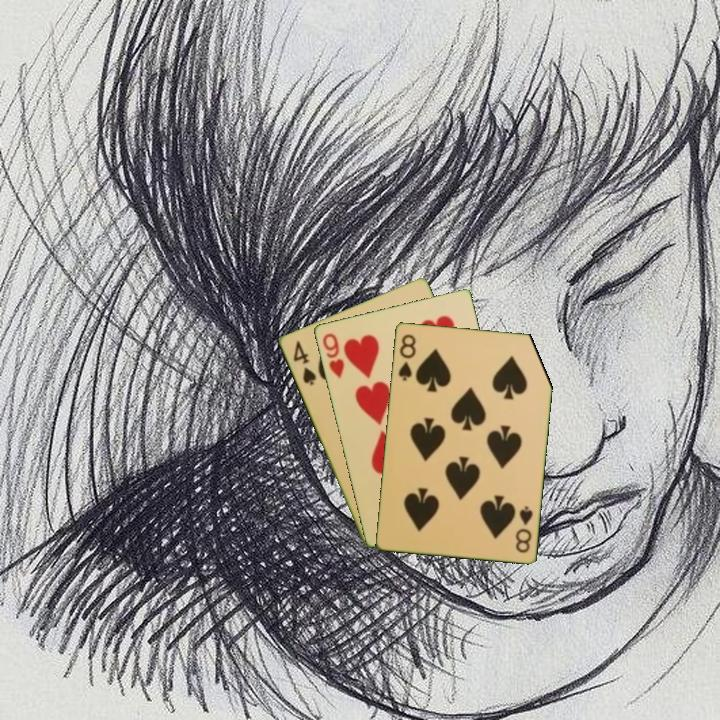4s: (289, 337, 319, 388)
8s: (512, 502, 535, 555), (395, 331, 418, 383)
9h: (319, 329, 347, 381)
